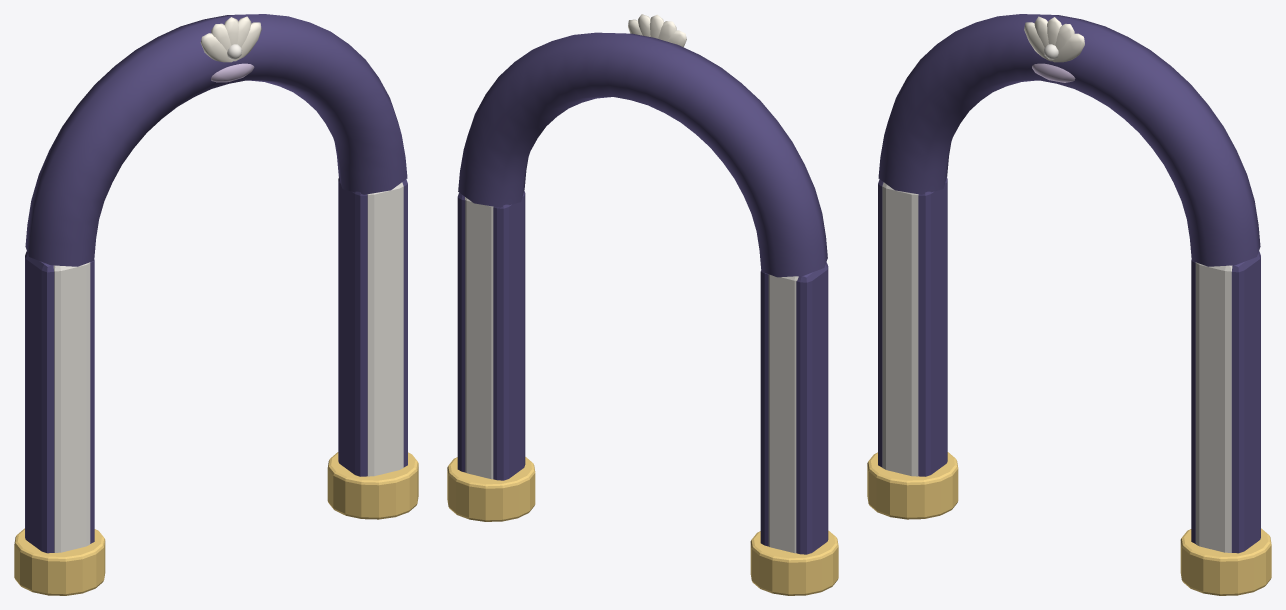
File: pearl_shell_arch.glb
3 views of the same model, side by side, from view 1: azimuth 30°, elevation 25°; view 2: azimuth 150°, elevation 25°; view 3: azimuth 330°, elevation 25° (orthographic). The views are drawn at different scales.
Parts seen in each view (by area): view 1: pearl_shell_arch.001; view 2: pearl_shell_arch.001; view 3: pearl_shell_arch.001.
Boxes of the visible parts, <box> form: pearl_shell_arch.001: <box>14,14,418,595</box>; pearl_shell_arch.001: <box>447,14,838,595</box>; pearl_shell_arch.001: <box>867,14,1271,595</box>.
Size of the model in its own units: 11.66 by 15.14 by 2.36.
